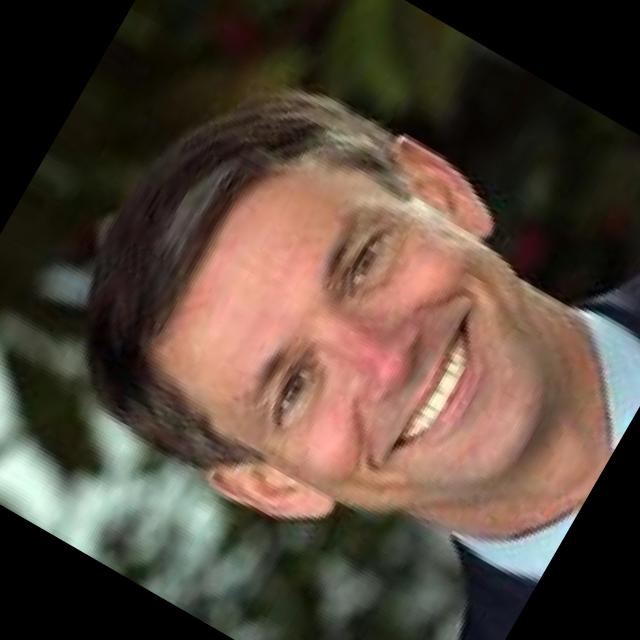bareface: (58, 73, 613, 581)
